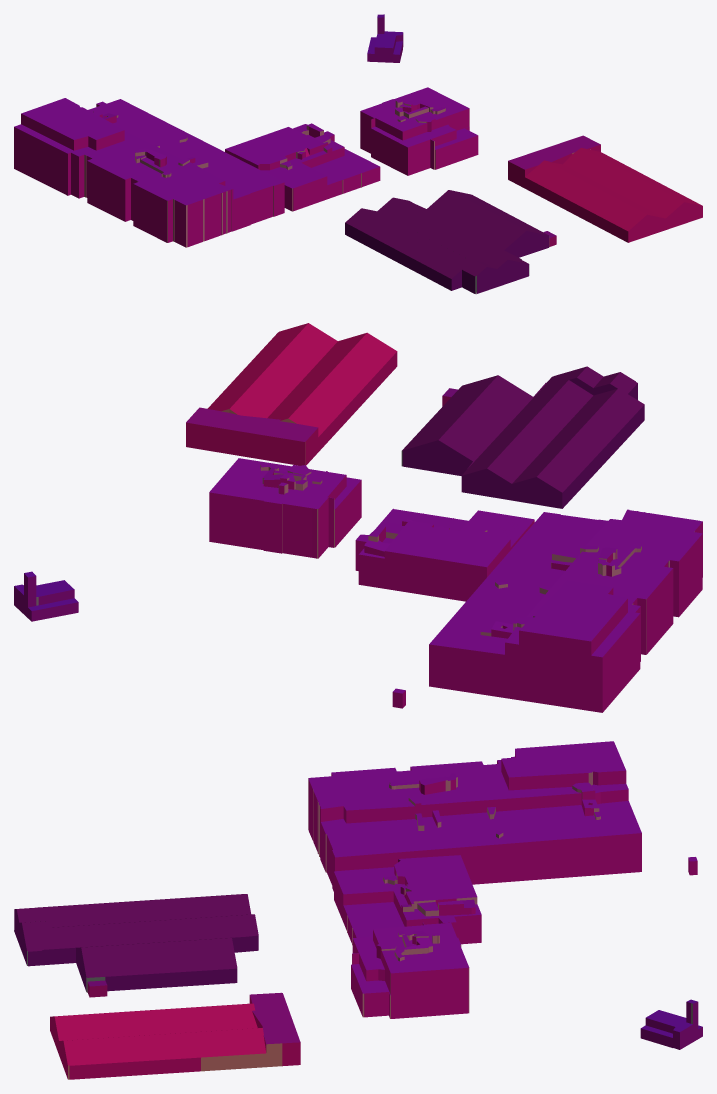
Rendered from buildings_9_6.glb.
The picture shows the model from 3 angles, top to bottom: view 1: azimuth 30°, elevation 25°; view 2: azimuth 150°, elevation 25°; view 3: azimuth 270°, elevation 25°; orthographic projection. The views are drawn at different scales.
Parts seen in each view (by area): view 1: buildings_9_6; view 2: buildings_9_6; view 3: buildings_9_6.
Part boxes in pixels (bbox=[...]): buildings_9_6: bbox=[14, 14, 702, 294]; buildings_9_6: bbox=[14, 323, 702, 712]; buildings_9_6: bbox=[14, 741, 702, 1079].
Bounding box in the file's own units: 196 × 21.18 × 205.
